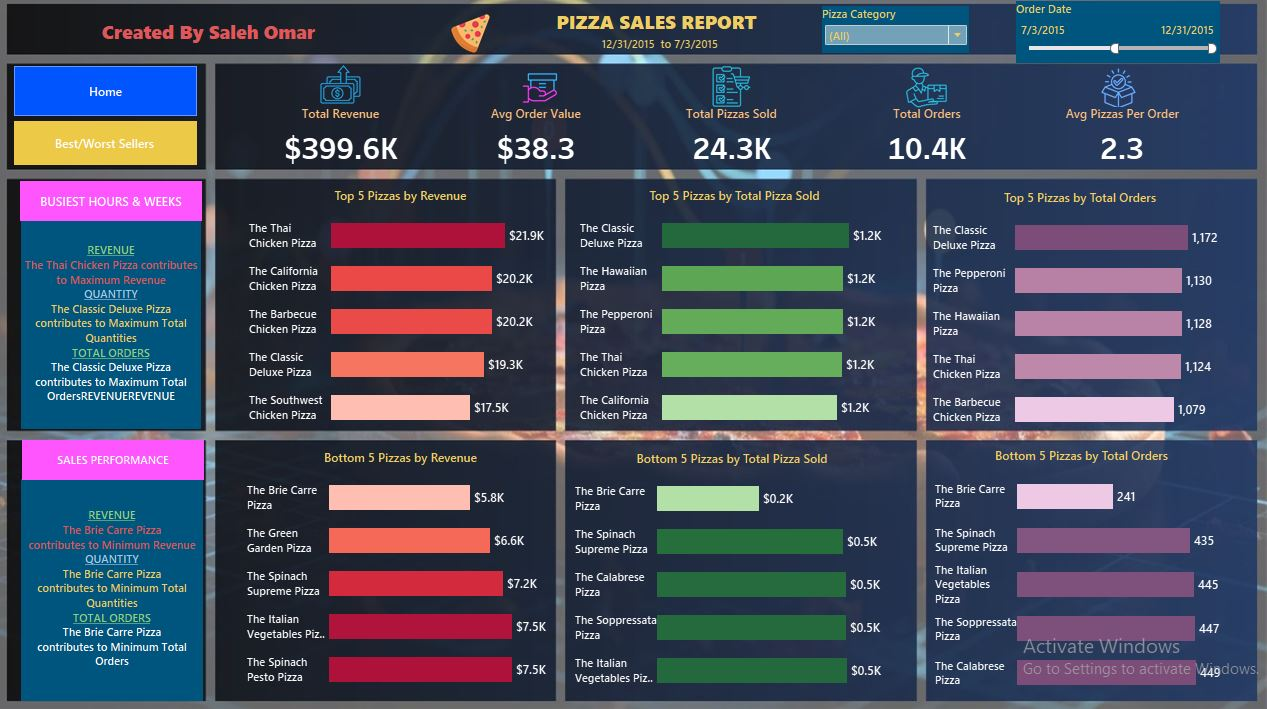

The dashboard page shown, as its layout file describes it:
{"tool":"tableau","page":{"name":"Best/Worst Seller","canvas":[1000,1000],"units":"permille","ordinal":0},"visuals":[{"type":"image","param":"C:/Users/2019/Downloads/Pizza Sales Project/Pizza Sales Images-20240918T170220Z-","box":[5.9,10.8,988.3,978.3]},{"type":"text","box":[401.7,23.7,230.3,54.1]},{"type":"filter","title":"Date Range","param":"[federated.1tarbbl19i76t018t7sm41ueucs1].[none:order_date:qk]","box":[780.1,23.7,149.8,84.5]},{"type":"filter","title":"Date Range","param":"[federated.1tarbbl19i76t018t7sm41ueucs1].[none:pizza_category:nk]","box":[638.1,30.4,108.2,64.2]},{"type":"image","param":"C:/Users/2019/Downloads/Pizza Sales Project/Pizza Sales Images-20240918T170220Z-","box":[366.2,35.5,29.4,62.5]},{"type":"worksheet","title":"Date Range","mark":"Automatic","box":[429.4,57.4,180.1,50.7]},{"type":"image","param":"C:/Users/2019/Downloads/Pizza Sales Project/Pizza Sales Images-20240918T170220Z-","box":[268.9,104.7,34.7,62.5]},{"type":"image","param":"C:/Users/2019/Downloads/Pizza Sales Project/Pizza Sales Images-20240918T170220Z-","box":[553.9,109.8,35.6,57.4]},{"type":"dashboard-object","box":[46.8,111.5,134.2,67.6]},{"type":"image","param":"C:/Users/2019/Downloads/Pizza Sales Project/Pizza Sales Images-20240918T170220Z-","box":[698.1,111.5,33,57.4]},{"type":"image","param":"C:/Users/2019/Downloads/Pizza Sales Project/Pizza Sales Images-20240918T170220Z-","box":[413.2,113.2,37.4,52.4]},{"type":"image","param":"C:/Users/2019/Downloads/Pizza Sales Project/Pizza Sales Images-20240918T170220Z-","box":[839.7,113.2,31.2,54.1]},{"type":"worksheet","title":"KPI Banner","mark":"Automatic","box":[214.6,158.8,715.1,91.2]},{"type":"dashboard-object","box":[46.8,185.8,134.2,59.1]},{"type":"text","box":[51.1,266.9,133.3,54.1]},{"type":"worksheet","title":"Top 5 Pizzas by Revenue","mark":"Automatic","rows":["pizza_name"],"cols":["Calculation_922112086769025026"],"box":[214.7,270.3,230.3,332.8]},{"type":"worksheet","title":"Top 5 Pizzas by Total Pizza Sold","mark":"Automatic","rows":["pizza_name"],"cols":["Calculation_922112086785839110"],"box":[457.1,270.3,234.6,332.8]},{"type":"worksheet","title":"Top 5 Pizzas by Total Orders","mark":"Automatic","rows":["pizza_name"],"cols":["Calculation_922112086785069060"],"box":[715.1,272,224.2,332.8]},{"type":"text","box":[52,320.9,131.6,282.1]},{"type":"text","box":[52.8,618.2,133.3,54.1]},{"type":"worksheet","title":"Bottom 5 Pizzas by Total Orders","mark":"Automatic","rows":["pizza_name"],"cols":["Calculation_922112086785069060"],"box":[716.9,621.6,223.4,341.2]},{"type":"worksheet","title":"Bottom 5 Pizzas by Revenue","mark":"Automatic","rows":["pizza_name"],"cols":["Calculation_922112086769025026"],"box":[213,625,233.8,332.8]},{"type":"worksheet","title":"Bottom 5 Pizzas by Total Pizza Sold","mark":"Automatic","rows":["pizza_name"],"cols":["Calculation_922112086785839110"],"box":[452.8,626.7,239,332.8]},{"type":"text","box":[52,670.6,133.3,300.7]}]}

Visuals, with their boxes on the dashboard's canvas, which has no fixed pixel size, in thousandths of its width and height (x1, y1, x2, y2). These are canvas units, not pixel positions in the 1267x709 screenshot, which may show the page scaled, cropped or inside an application window:
image: locate(6, 11, 994, 989)
text: locate(402, 24, 632, 78)
"Date Range" filter: locate(780, 24, 930, 108)
"Date Range" filter: locate(638, 30, 746, 95)
image: locate(366, 36, 396, 98)
"Date Range" worksheet: locate(429, 57, 610, 108)
image: locate(269, 105, 304, 167)
image: locate(554, 110, 590, 167)
dashboard-object: locate(47, 112, 181, 179)
image: locate(698, 112, 731, 169)
image: locate(413, 113, 451, 166)
image: locate(840, 113, 871, 167)
"KPI Banner" worksheet: locate(215, 159, 930, 250)
dashboard-object: locate(47, 186, 181, 245)
text: locate(51, 267, 184, 321)
"Top 5 Pizzas by Revenue" worksheet: locate(215, 270, 445, 603)
"Top 5 Pizzas by Total Pizza Sold" worksheet: locate(457, 270, 692, 603)
"Top 5 Pizzas by Total Orders" worksheet: locate(715, 272, 939, 605)
text: locate(52, 321, 184, 603)
text: locate(53, 618, 186, 672)
"Bottom 5 Pizzas by Total Orders" worksheet: locate(717, 622, 940, 963)
"Bottom 5 Pizzas by Revenue" worksheet: locate(213, 625, 447, 958)
"Bottom 5 Pizzas by Total Pizza Sold" worksheet: locate(453, 627, 692, 960)
text: locate(52, 671, 185, 971)
